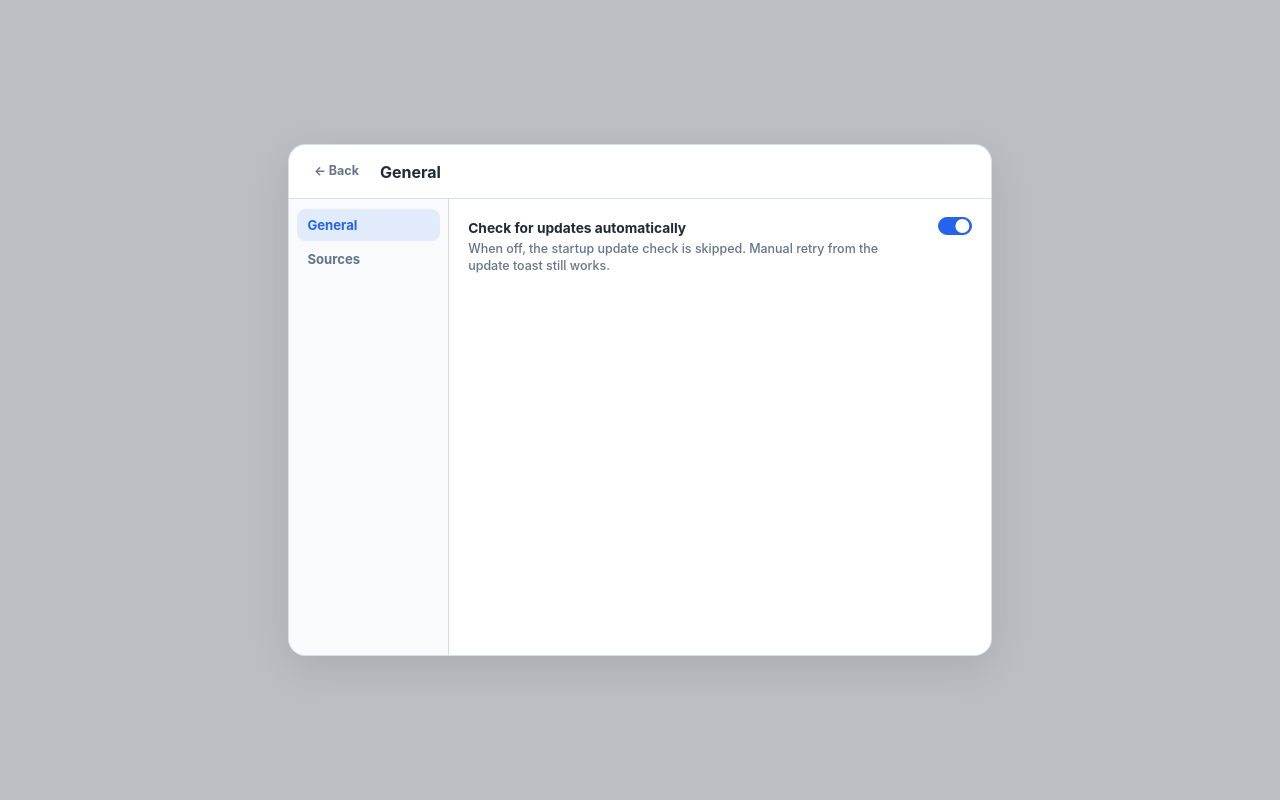
Test: SettingsPage › surfaces a failed write inline on the row and reverts the optimistic value
Click the switch named "Check for updates automatically".
click(955, 226)  # box [938,217,972,235]
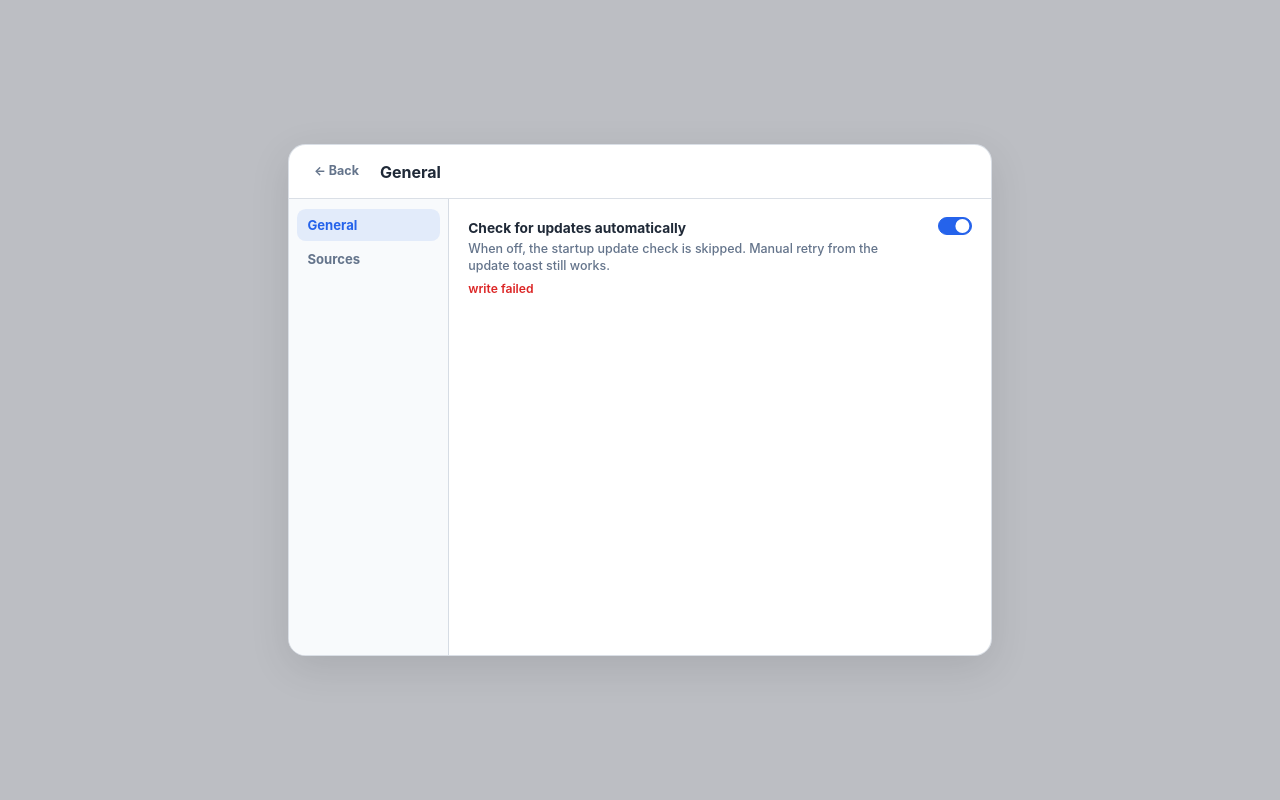
Now the message reads "write failed", box [468,281,534,296]
